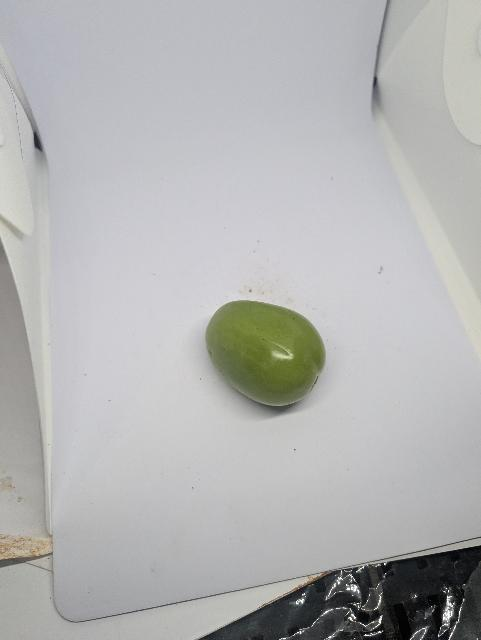green: (188, 291, 353, 424)
